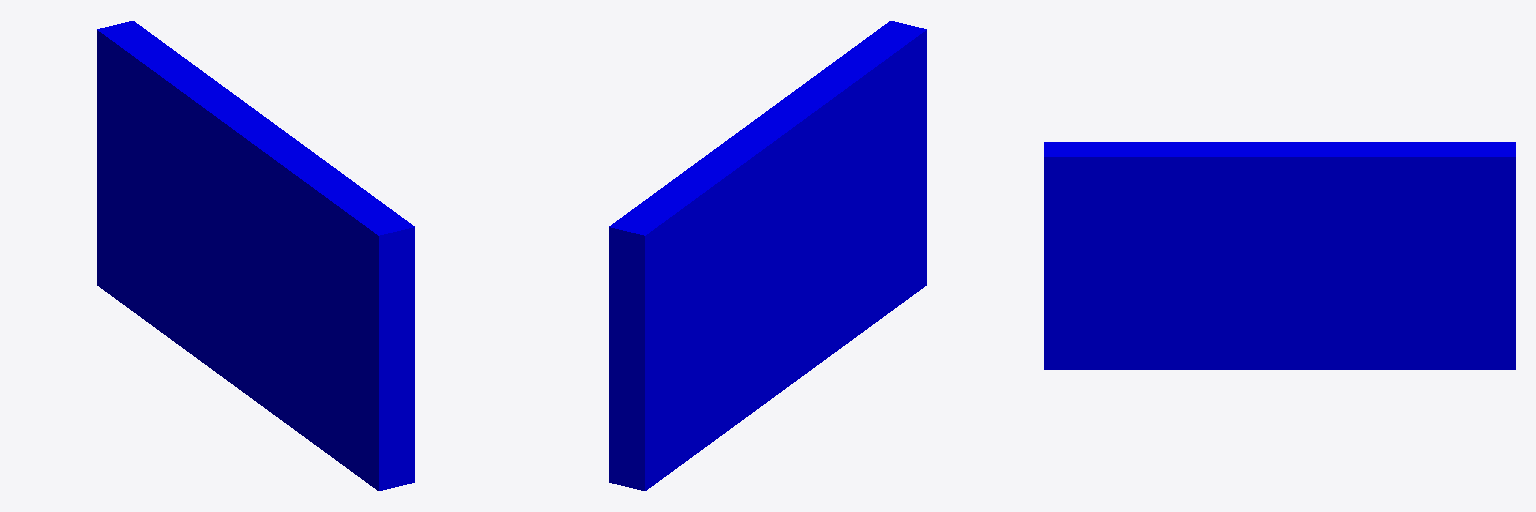
The robot description file, URDF, robot "cube":
<?xml version="0.0" ?>
<robot name="cube">
  <link name="baseLink">
    <contact>
      <lateral_friction value="1.0"/>
      <rolling_friction value="0.0"/>
      <contact_cfm value="10000.0"/>
      <contact_erp value="1000.0"/>
    </contact>
    <inertial>
      <origin rpy="0 0 0" xyz="0 0 0"/>
       <mass value="100.0"/>
       <inertia ixx="1000" ixy="1000" ixz="1000" iyy="1000" iyz="1000" izz="1000"/>
    </inertial>
    <visual>
      <origin rpy="0 0 0" xyz="0 0 0"/>
      <geometry>
        <!-- <mesh filename="turtlebot/turtlebot_description/meshes/stacks/hexagons/plate_top.dae"/> -->
        <!-- <mesh filename="[local-path]/SSHD/Robotics/Prev_Work/robot_prototypes/pybullet_robots/Turtlebot/data/kutu.dae"/> -->

				<mesh filename="boston_box.obj" scale="0.15 2 1"/>
				<!-- <mesh filename="boston_box.obj" scale="0.1 1 1"/> -->
      </geometry>
       <material name="white">
        <color rgba="0 0 1 1"/>
      </material> 
    </visual>
    <collision>
      <origin rpy="0 0 0" xyz="0 0 0"/>
      <geometry>
	 	<box size="0.1 4 5"/>
      </geometry>
    </collision>
  </link>
</robot>

--- What the picture shows (computed from the rendered views, not written in the file) ---
The picture shows the robot from 3 angles, left to right: view 1: azimuth 30°, elevation 25°; view 2: azimuth 150°, elevation 25°; view 3: azimuth 270°, elevation 25°; orthographic projection.
Robot: cube — 1 links, 0 joints (none); root link baseLink; default pose: all joints at 0.
Visible links, largest first — view 1: baseLink; view 2: baseLink; view 3: baseLink.
Link boxes in pixels (x1,y1,x2,y2): baseLink: [97, 21, 414, 490]; baseLink: [609, 21, 926, 490]; baseLink: [1044, 142, 1515, 369].
Size in the robot's own frame: 0.3 by 4 by 2 metres.
Meshes: 1 distinct files referenced, 1 mesh visuals loaded (1 OBJ).